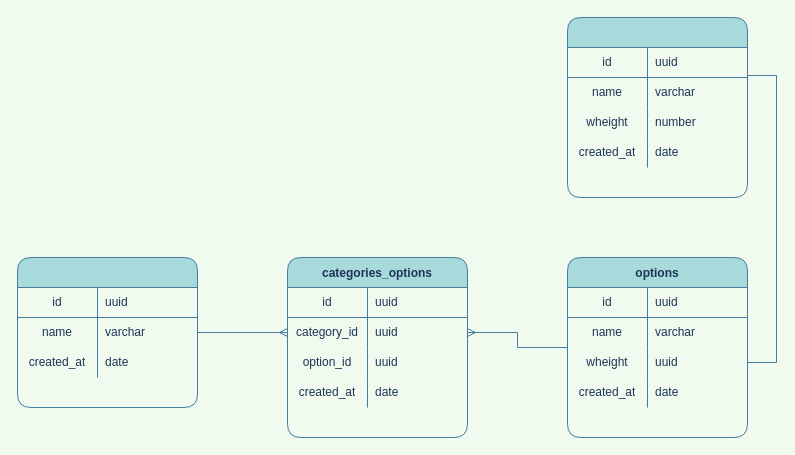
This 795x455 diagram has some shape labels left out. Here are the shapes that lost their labels. From the top down, the box of each, then its label:
(566, 16, 748, 198): wheights
(16, 256, 198, 408): categories
